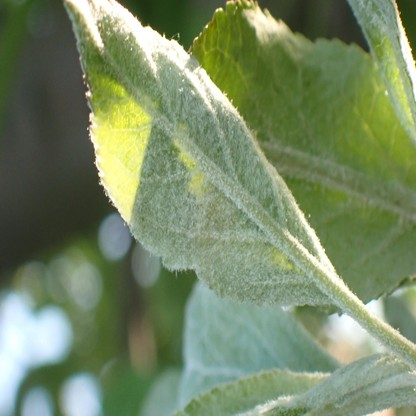powder: (62, 0, 341, 307), (256, 115, 416, 227), (165, 350, 415, 415), (349, 0, 415, 139)
